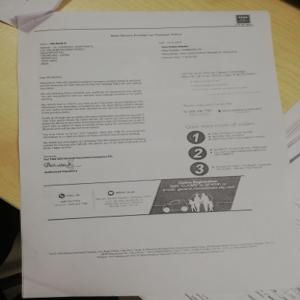text: (38, 75, 149, 152), (156, 39, 239, 60), (38, 39, 97, 68)
